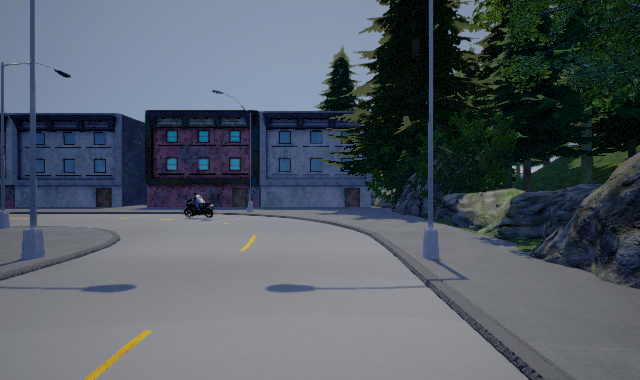motobike: (184, 199, 214, 218)
